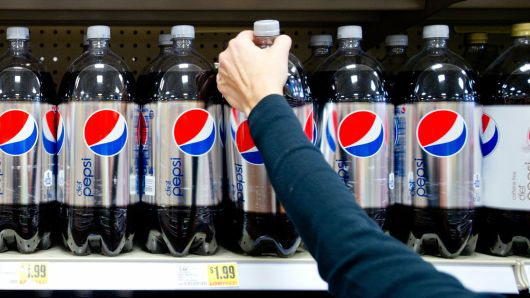pepsi: (417, 106, 468, 157), (417, 108, 468, 157), (83, 106, 127, 154), (172, 106, 215, 155), (337, 110, 383, 155), (83, 108, 127, 154), (87, 106, 127, 154), (341, 110, 383, 155), (0, 108, 37, 155), (236, 120, 263, 164), (42, 108, 62, 154), (480, 111, 499, 157)
